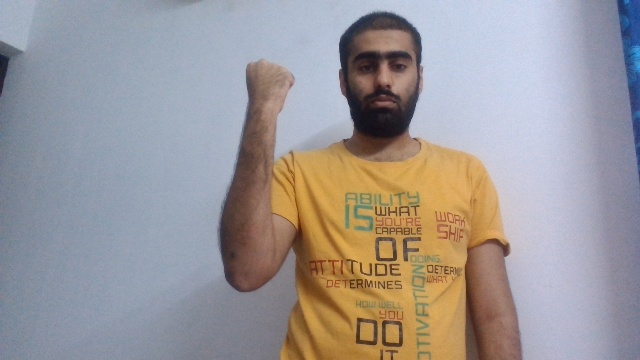rock: (244, 58, 295, 116)
